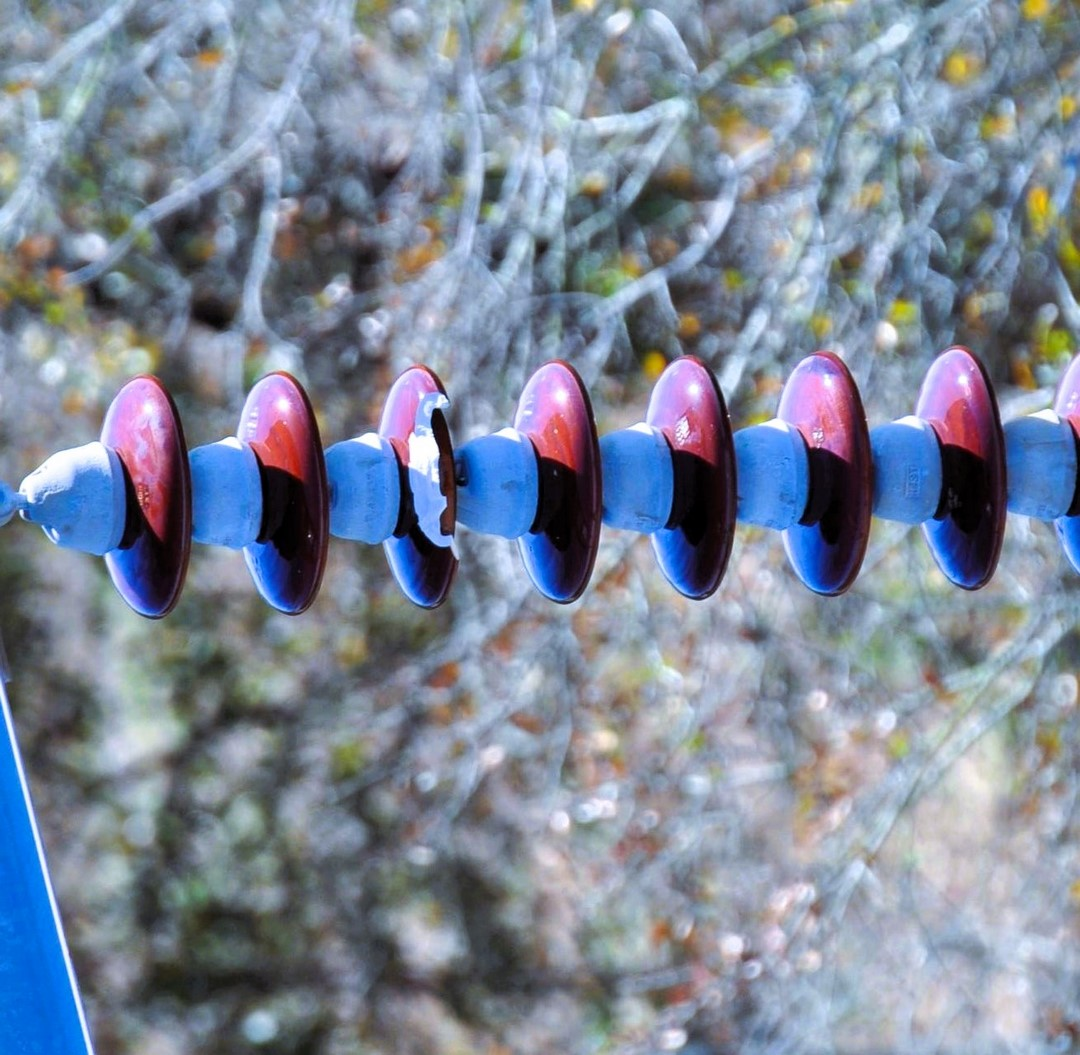insulator breakage: (375, 363, 479, 619)
